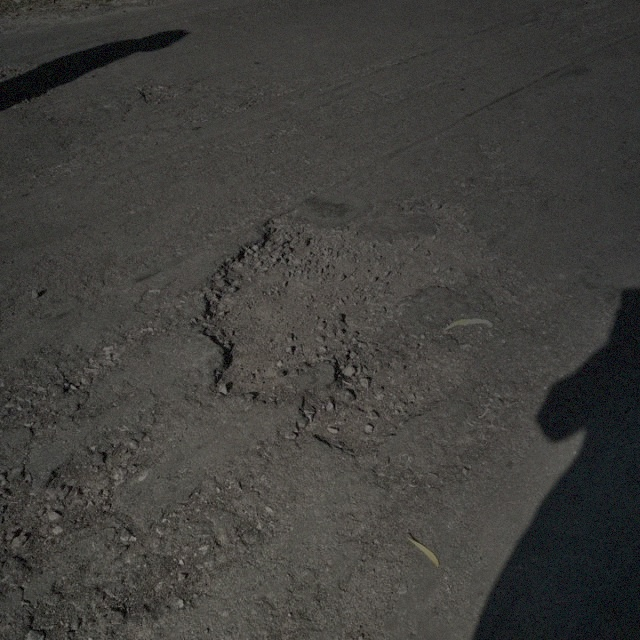pothole: (193, 198, 522, 458)
